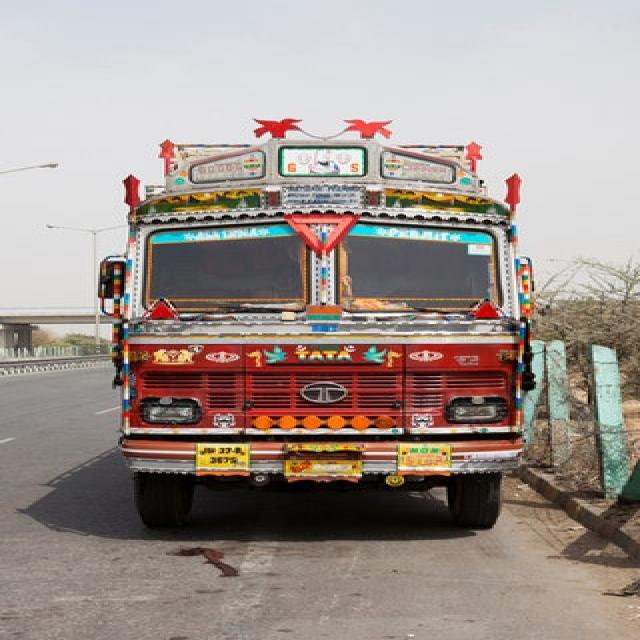Truck: (92, 135, 528, 534)
